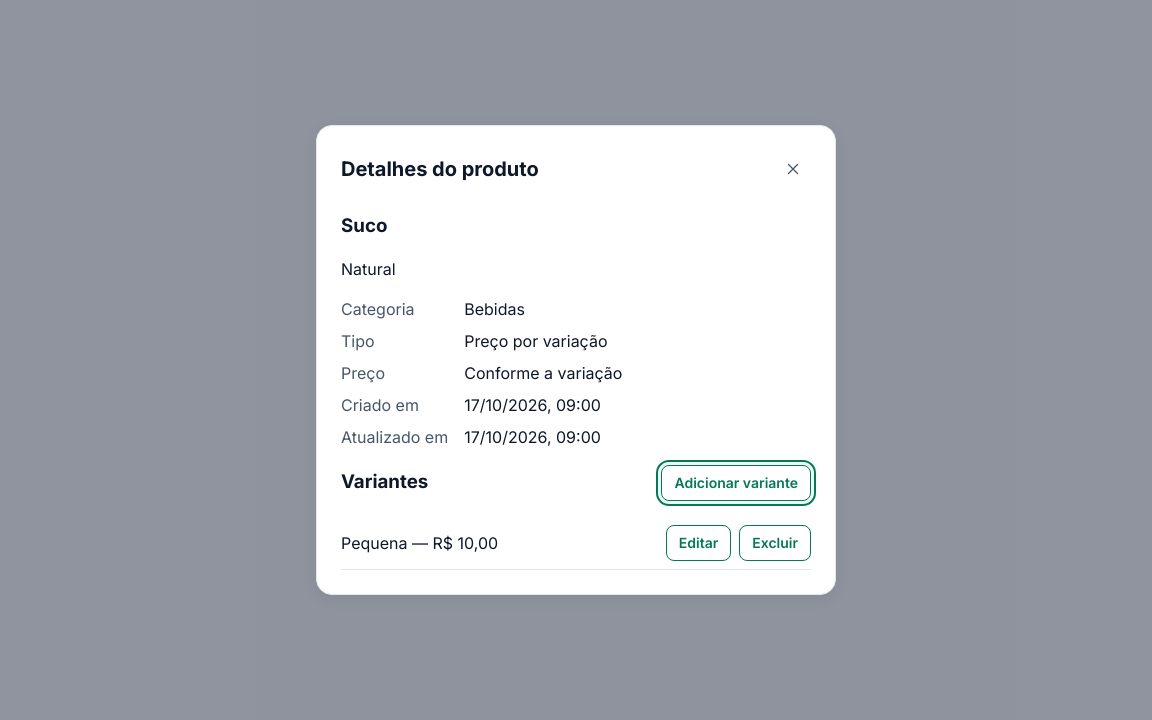
Test: variant edit modal › PATCHes only changed price and refreshes details/list
The width and height of the screenshot is (1152, 720).
Click the button with aria-label "Editar variante Pequena".
click(699, 542)  # box x1=666 y1=524 x2=731 y2=560
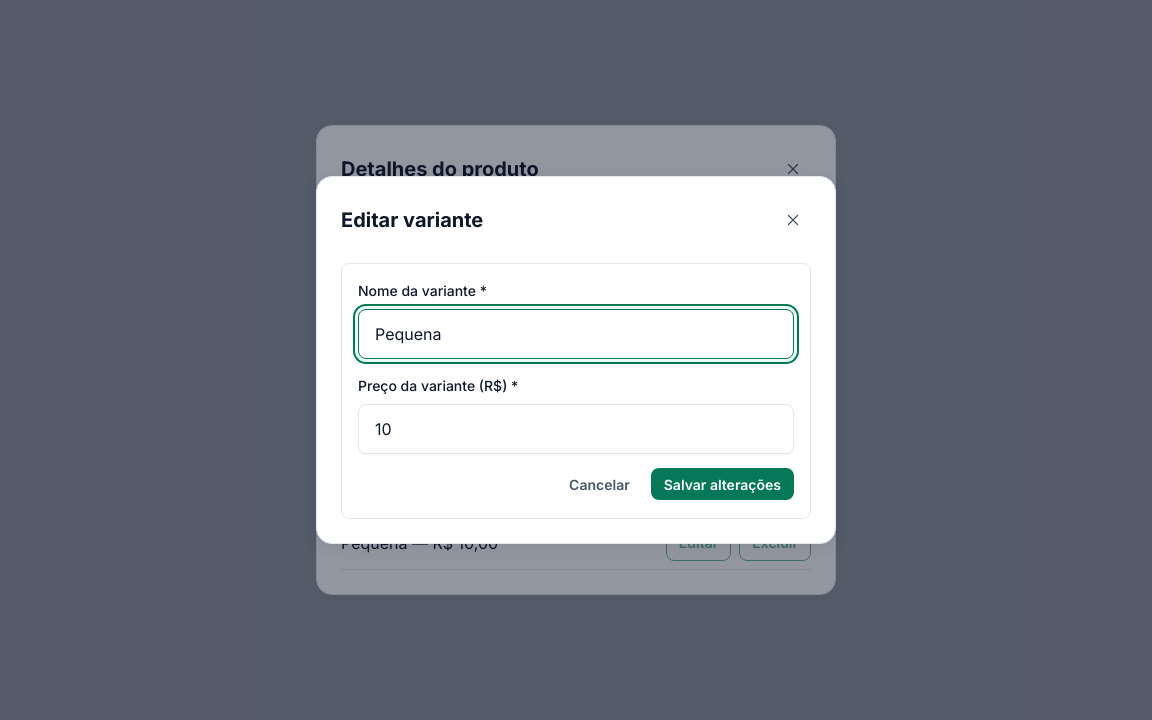
Replace the text in the field labelled "Preço da variante (R$) *" with "45,50" at (576, 429), box x1=358 y1=404 x2=794 y2=454
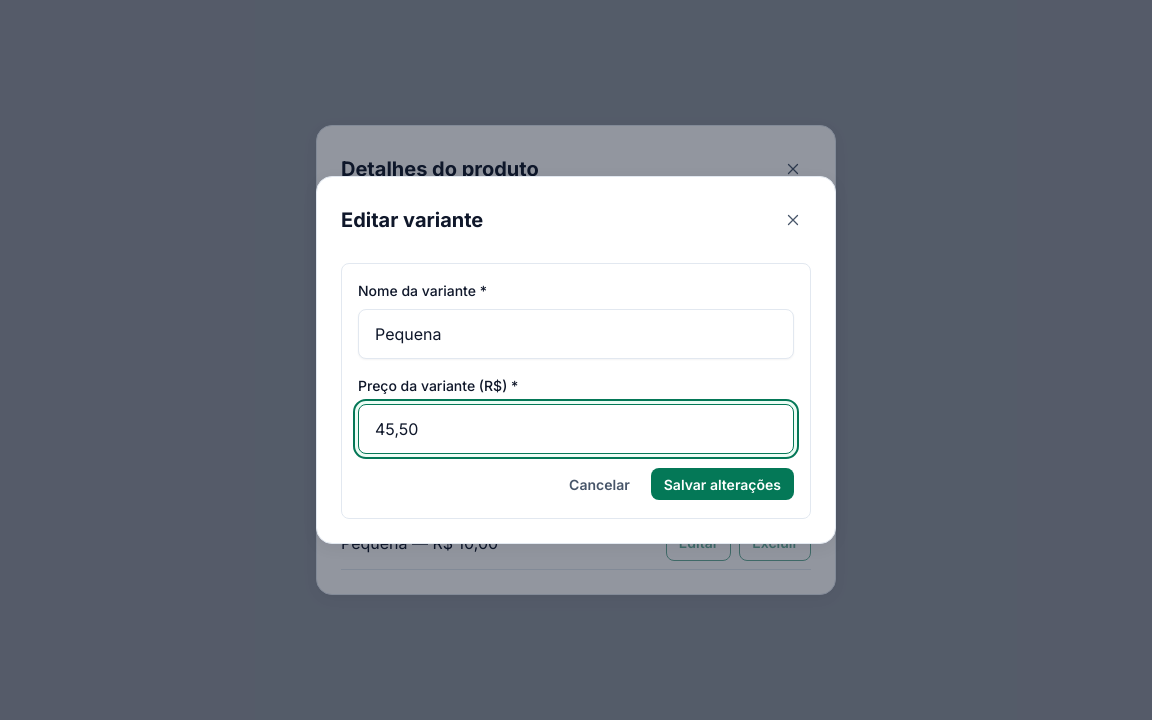
Click the button "Salvar alterações".
click(722, 484)  # box x1=651 y1=468 x2=794 y2=500
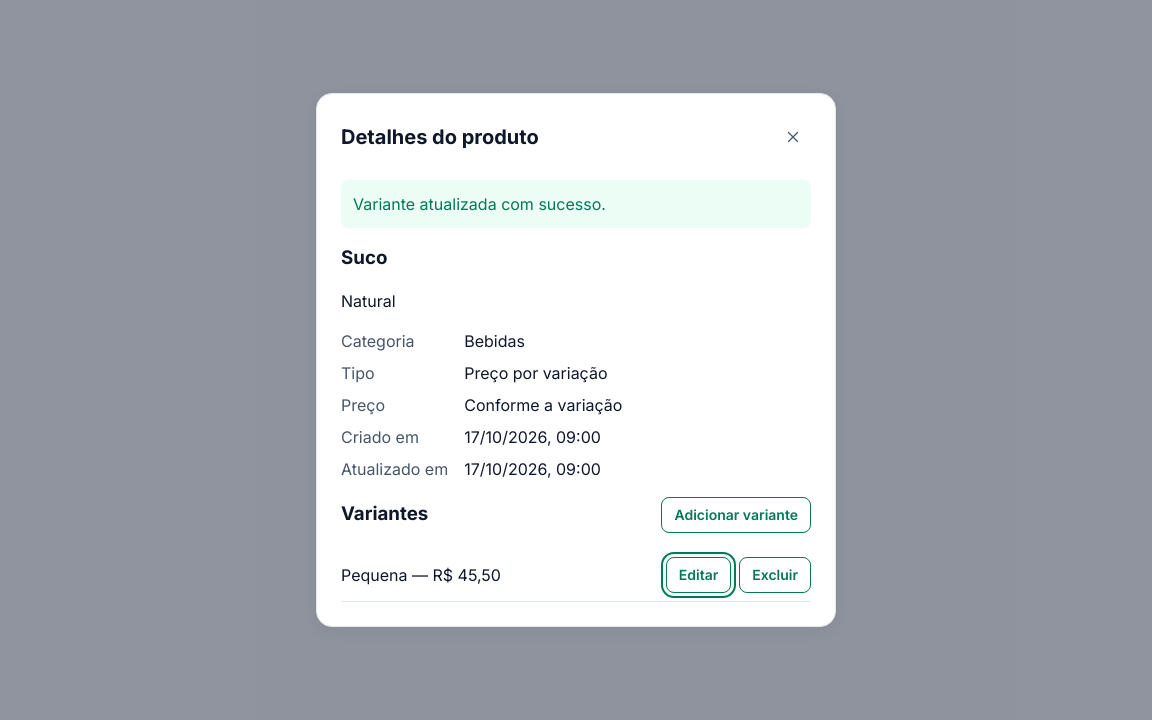
Now the text "Variante atualizada com sucesso." is shown, box x1=341 y1=180 x2=811 y2=228
Now the heading "Editar variante" is gone
